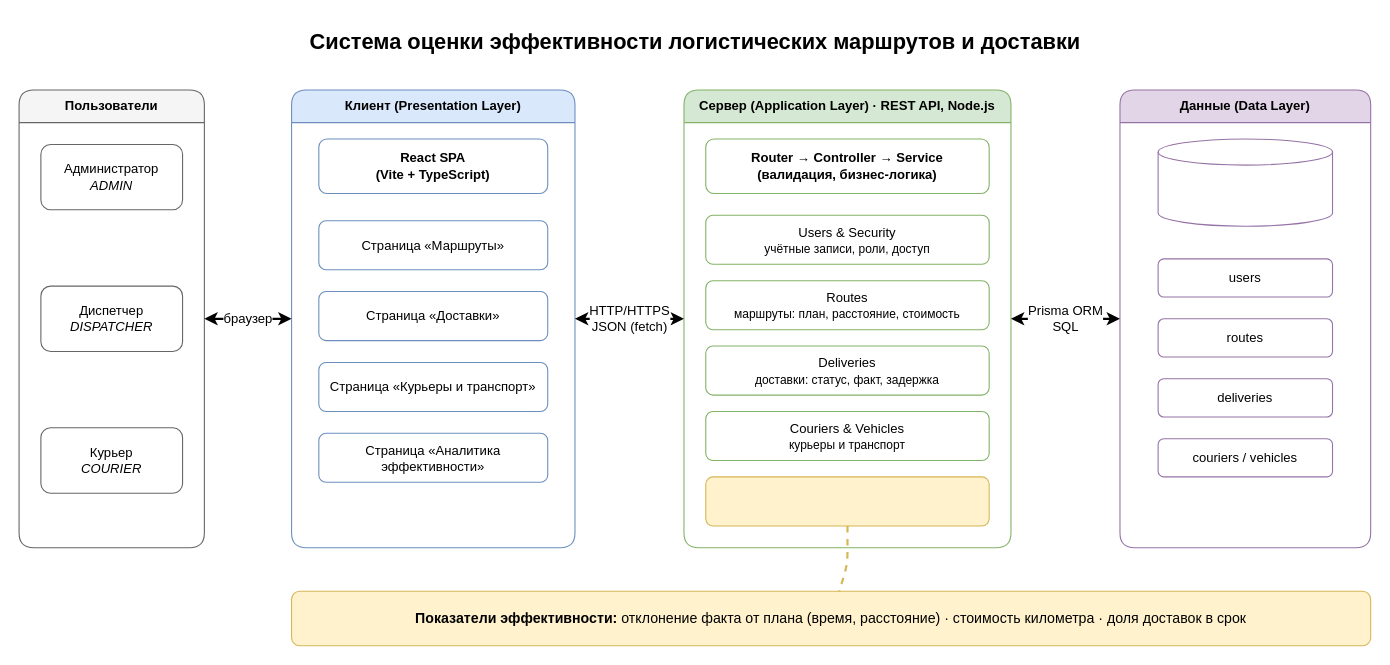
Image size: 1390x665. Some labels were removed from this diagram. The centre of each missing label's shape, as x and y in pixels:
"Efficiency Analytics расчёт показателей эффективности" goes at (847,501).
"PostgreSQL + Prisma ORM" goes at (1245,182).
